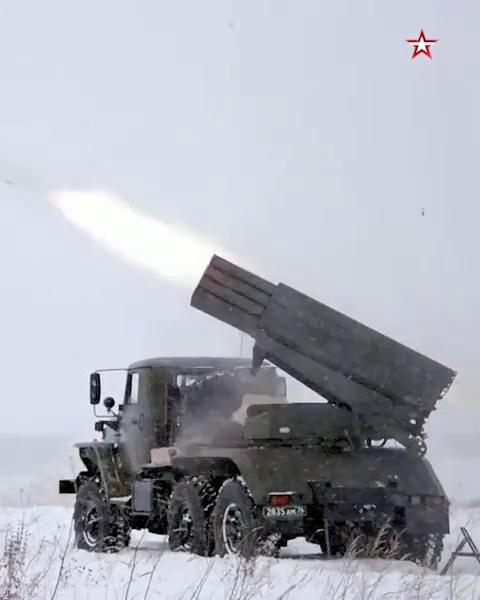MIL_SAM_TEL: (68, 252, 456, 565)
